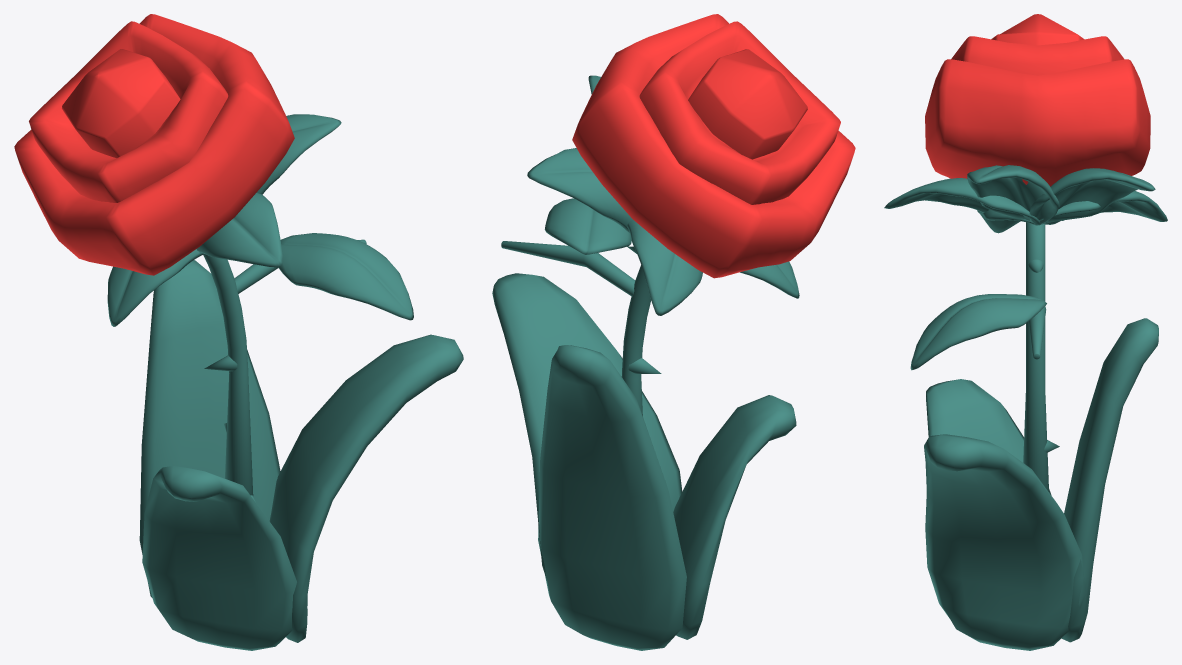
File: rose.fbx
The picture shows the model from 3 angles, left to right: view 1: azimuth 30°, elevation 25°; view 2: azimuth 150°, elevation 25°; view 3: azimuth 270°, elevation 25°; orthographic projection. The views are drawn at different scales.
Visible parts, largest first — view 1: rose; view 2: rose; view 3: rose.
Boxes of the visible parts, x1,y1,x2,y2 form: rose: [14, 14, 463, 650]; rose: [492, 14, 855, 650]; rose: [884, 14, 1167, 650].
Size of the model in its own units: 150 by 235 by 107.
